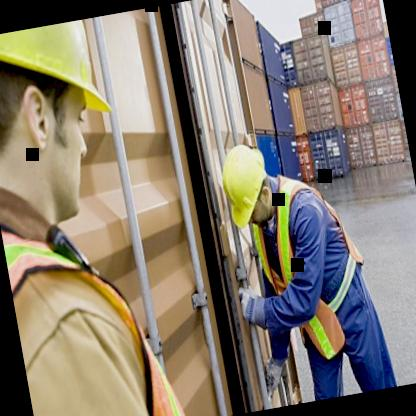helmet: (0, 14, 144, 241), (201, 122, 291, 256)
